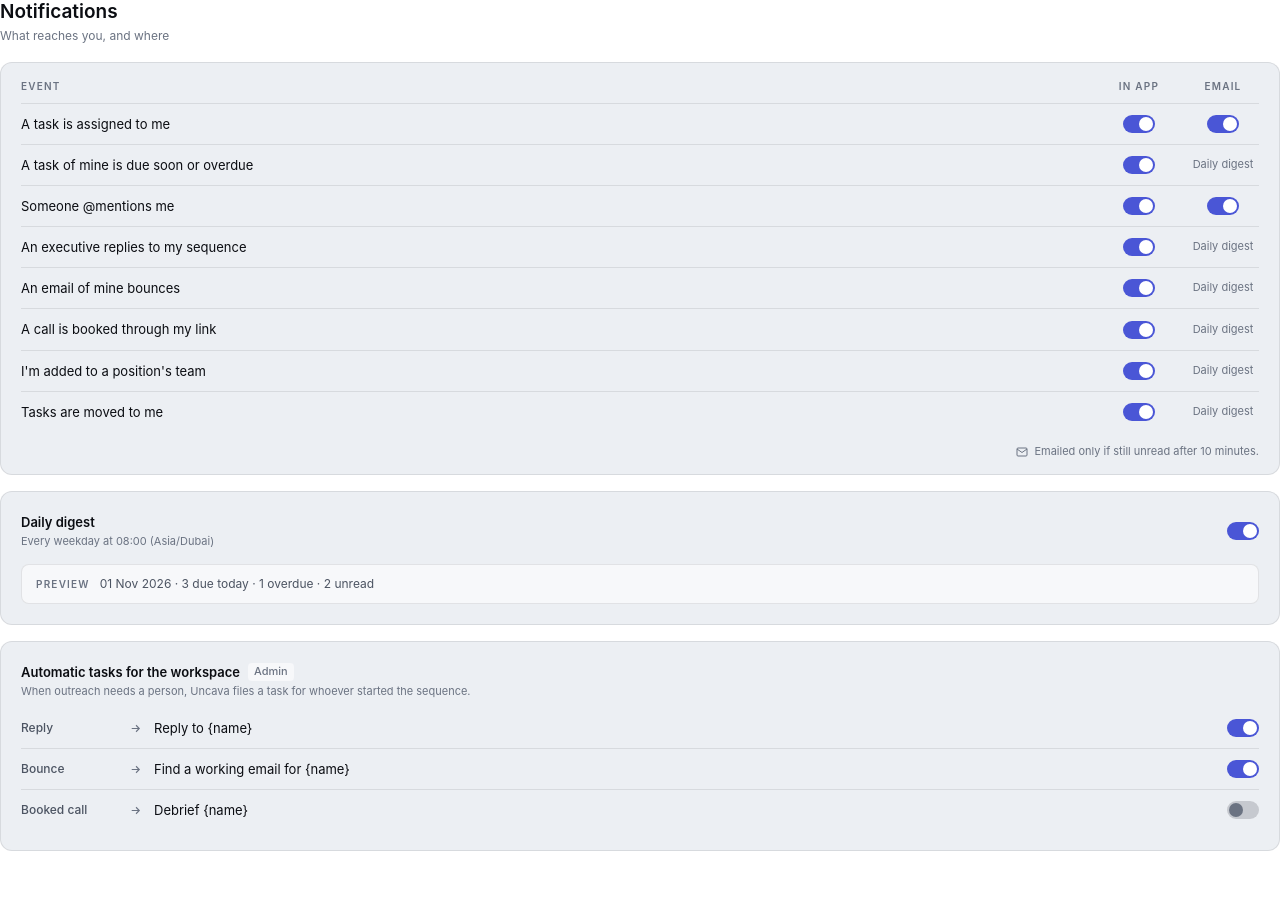
Test: SettingsNotificationsPage › puts a refused switch back as the server has it
Step 1. Click the switch named "Tasks are moved to me, in app" → (1139, 412), box [1123,403,1155,421]
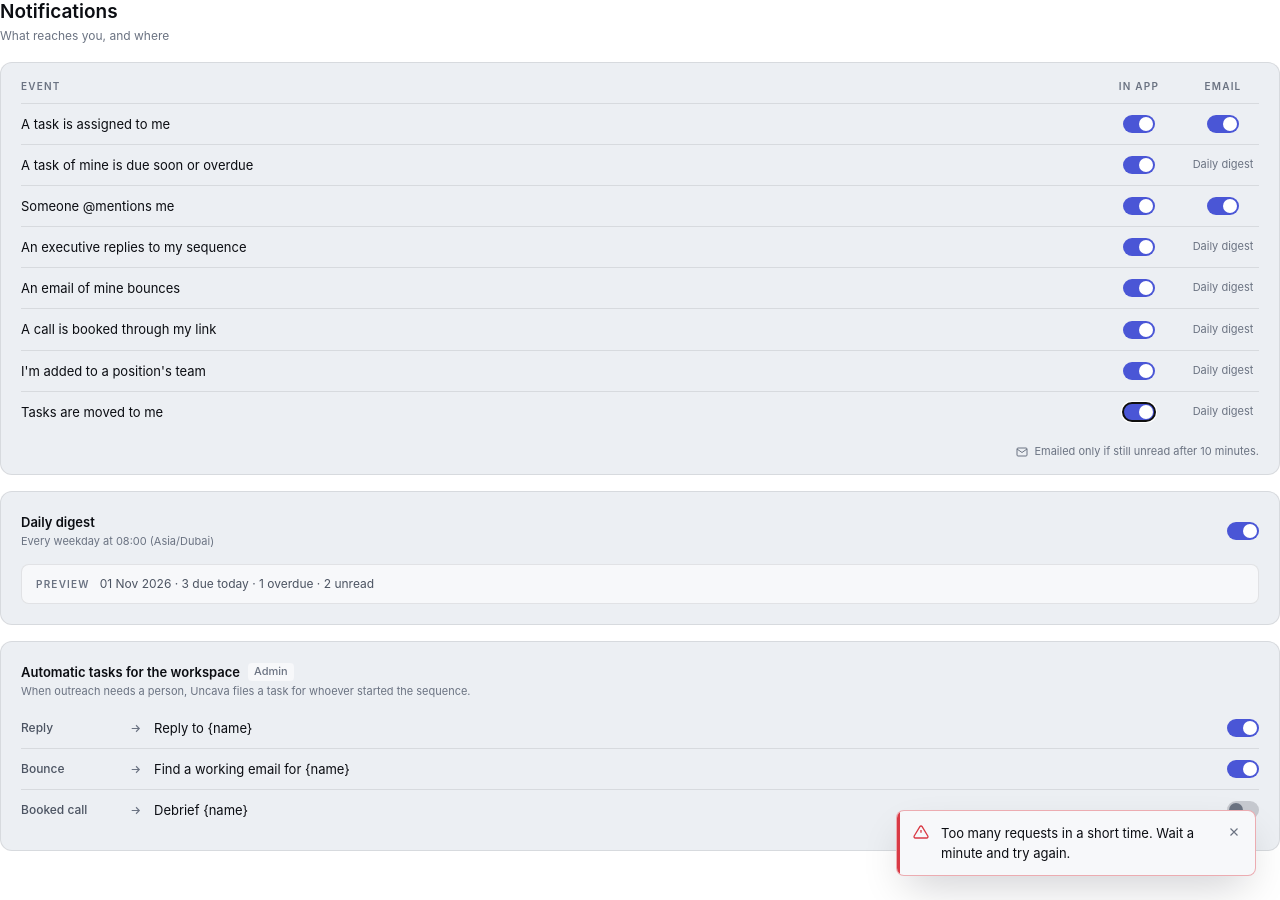
Check: the text "Too many requests in a short time. Wait a minute and try again." is shown, box [941,823,1211,863]
